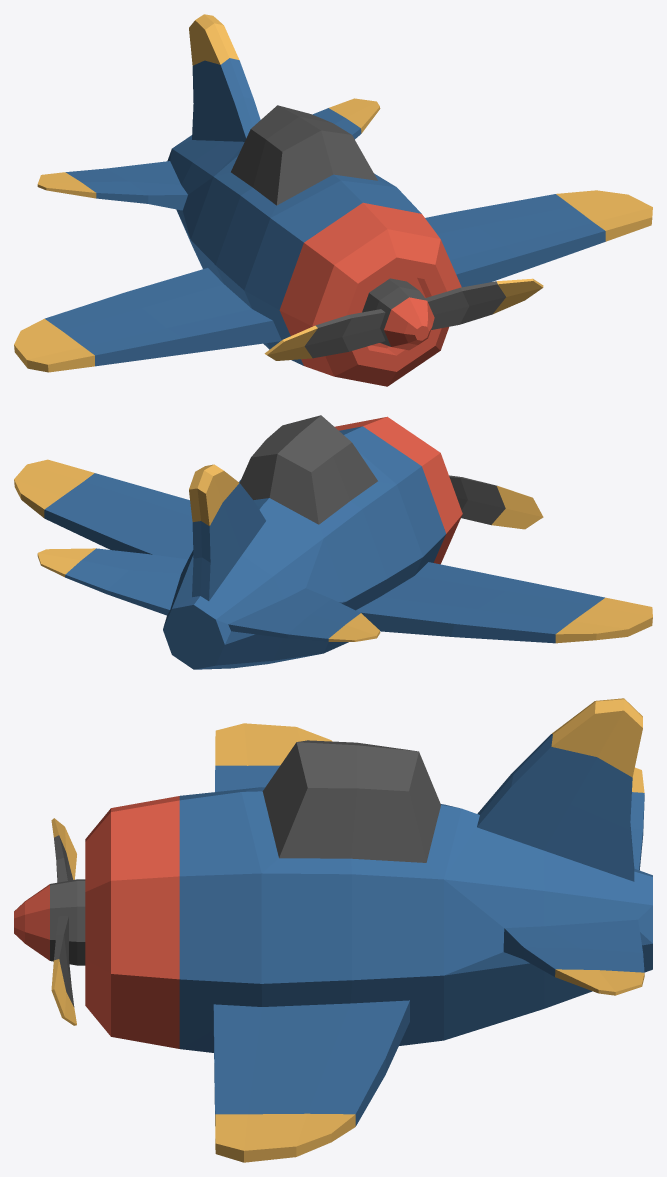
The model's file is airplane-2.glb.
The picture shows the model from 3 angles, top to bottom: view 1: azimuth 30°, elevation 25°; view 2: azimuth 150°, elevation 25°; view 3: azimuth 270°, elevation 25°; orthographic projection. The views are drawn at different scales.
Visible parts, largest first — view 1: Plane, Propeller; view 2: Plane, Propeller; view 3: Plane, Propeller.
Boxes of the visible parts, x1,y1,x2,y2 form: Plane: [14, 14, 652, 386]; Propeller: [264, 278, 543, 360]; Plane: [14, 415, 652, 669]; Propeller: [449, 475, 543, 529]; Plane: [85, 698, 652, 1162]; Propeller: [14, 818, 85, 1025].
Bounding box in the file's own units: 6.96 × 2.69 × 4.4.
